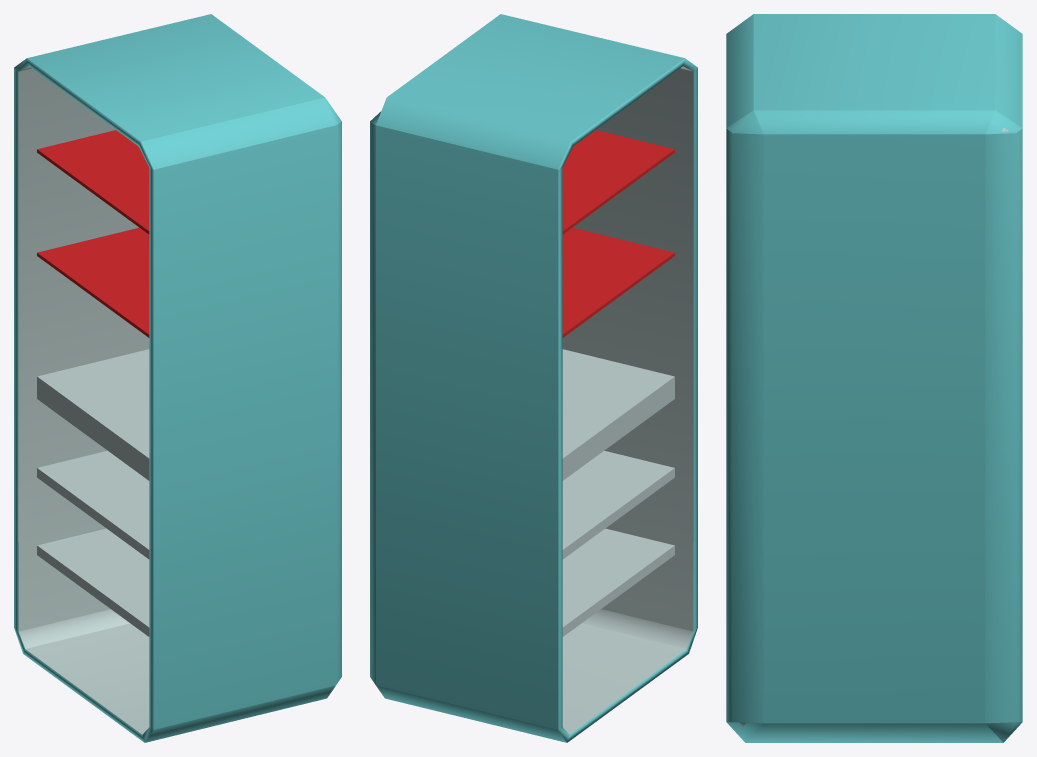
File: MOD_APP_Fridge_01.fbx
The picture shows the model from 3 angles, left to right: view 1: azimuth 30°, elevation 25°; view 2: azimuth 150°, elevation 25°; view 3: azimuth 270°, elevation 25°; orthographic projection. The views are drawn at different scales.
Parts seen in each view (by area): view 1: HSHP_MOD_Fridge; view 2: HSHP_MOD_Fridge; view 3: HSHP_MOD_Fridge.
Boxes of the visible parts, x1=… form: HSHP_MOD_Fridge: x1=14, y1=14, x2=341, y2=742; HSHP_MOD_Fridge: x1=370, y1=14, x2=697, y2=742; HSHP_MOD_Fridge: x1=726, y1=14, x2=1022, y2=742.
Bounding box in the file's own units: 71.17 × 210 × 88.97.
